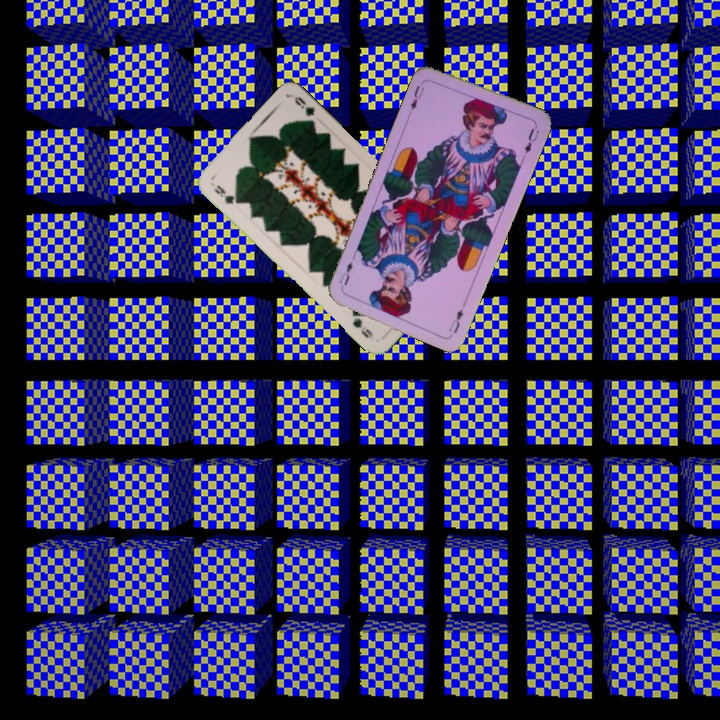EU: (405, 81, 427, 116), (445, 305, 466, 336)
G9: (210, 181, 243, 207)
